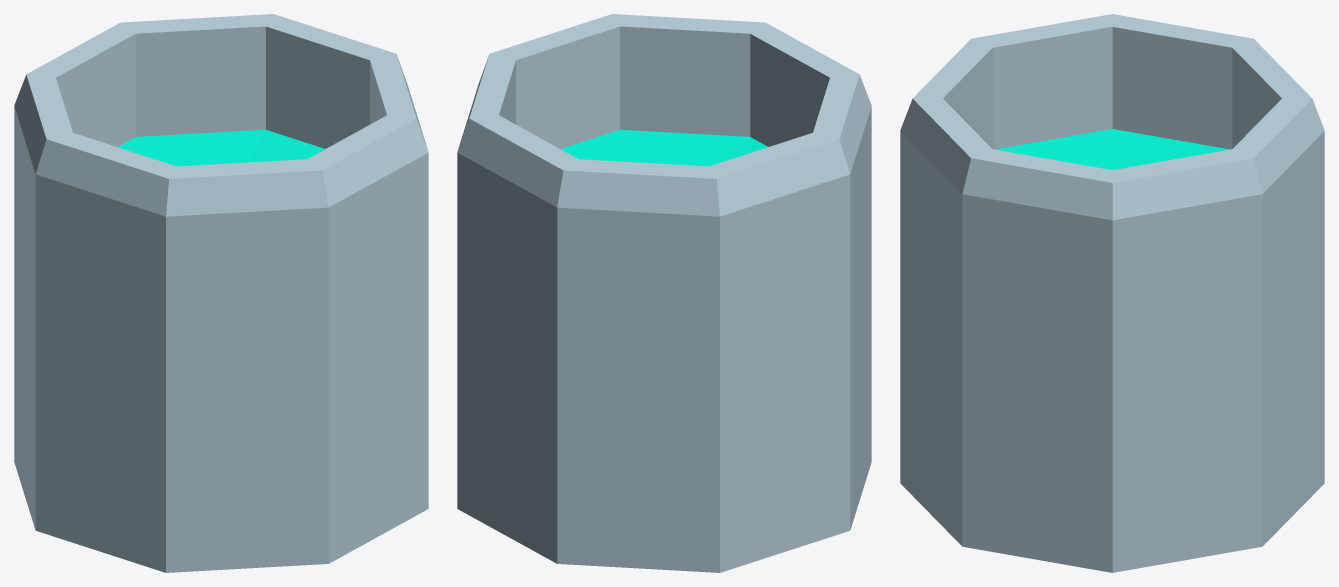
The model's file is SM_Prop_Glass_01.fbx.
3 views of the same model, side by side, from view 1: azimuth 30°, elevation 25°; view 2: azimuth 150°, elevation 25°; view 3: azimuth 270°, elevation 25° (orthographic).
Visible parts, largest first — view 1: SM_Prop_Glass_01, SM_Prop_Drink_01; view 2: SM_Prop_Glass_01, SM_Prop_Drink_01; view 3: SM_Prop_Glass_01, SM_Prop_Drink_01.
Part boxes in pixels (x1,y1,x2,y2): SM_Prop_Glass_01: (14,14,428,572); SM_Prop_Drink_01: (118,129,324,166); SM_Prop_Glass_01: (457,14,871,572); SM_Prop_Drink_01: (561,129,767,166); SM_Prop_Glass_01: (900,14,1324,572); SM_Prop_Drink_01: (995,129,1229,169).
Size of the model in its own units: 10.43 by 10.43 by 10.43.
